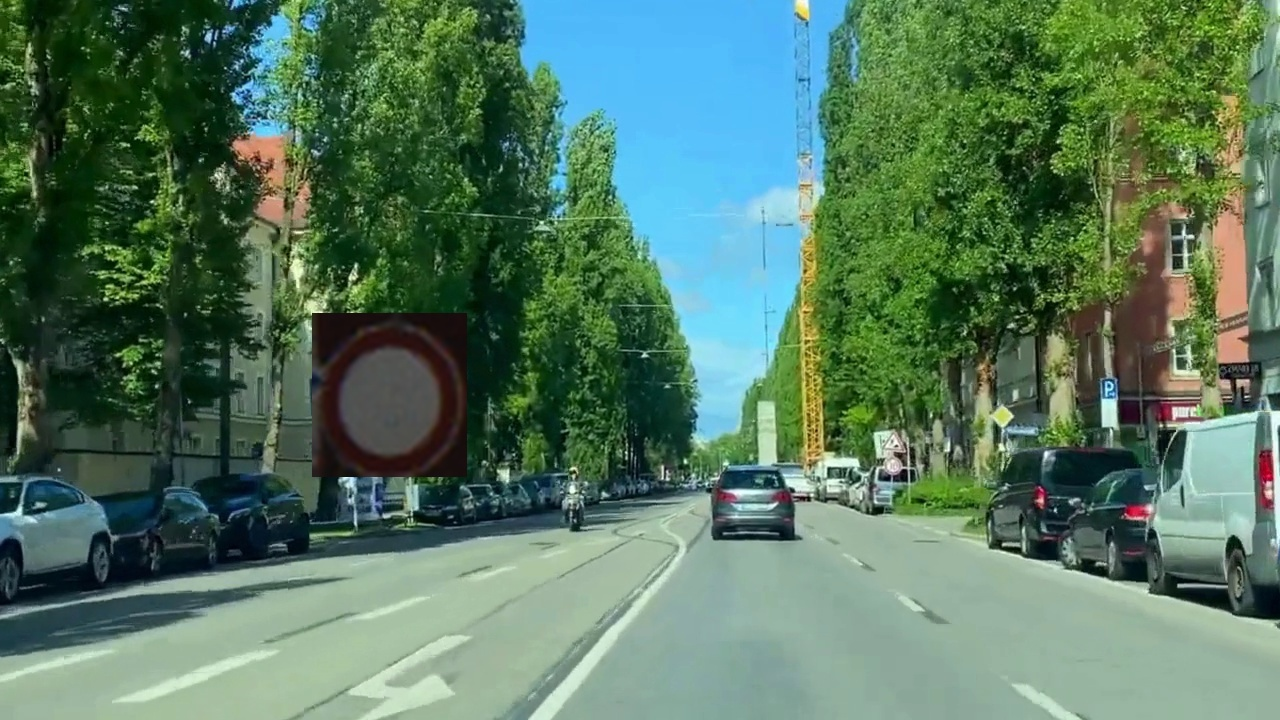No vehicles: (312, 313, 467, 477)
